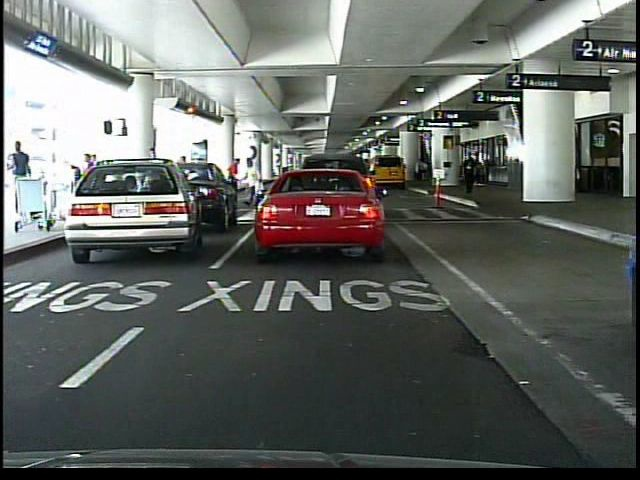person: (9, 138, 37, 224), (147, 144, 164, 222), (246, 156, 264, 205), (226, 154, 242, 204), (463, 154, 480, 196), (415, 155, 427, 189)
